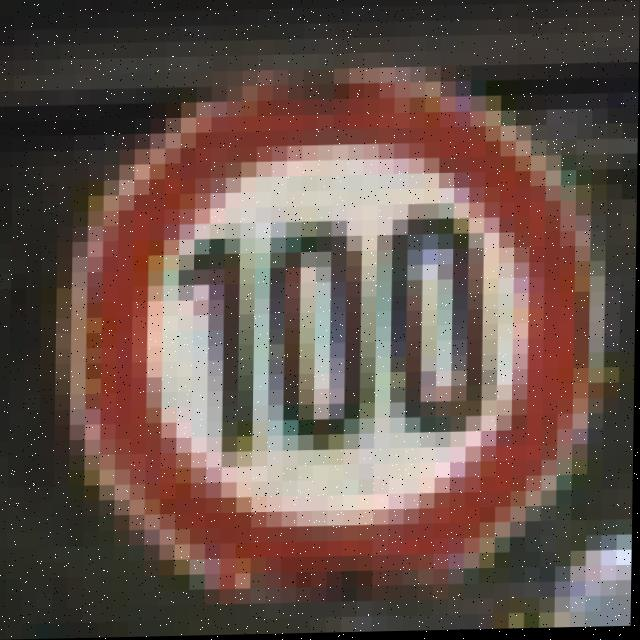speed_limit_100: (80, 60, 600, 578)
